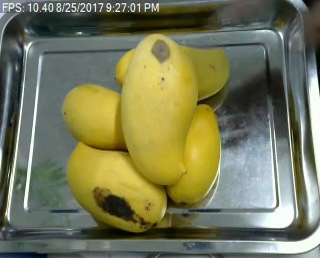Mango: (121, 33, 191, 185), (65, 139, 170, 230), (112, 45, 234, 96), (163, 104, 223, 205), (59, 82, 141, 152)
